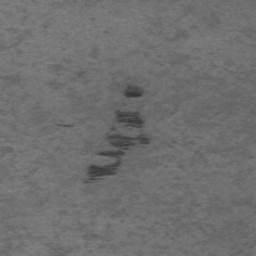Secondary rust skin: (84, 85, 149, 184)
